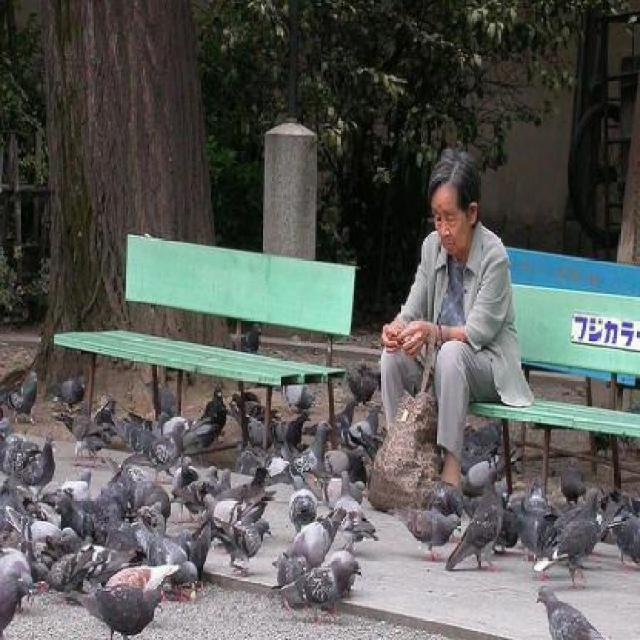Person: (376, 142, 532, 493)
